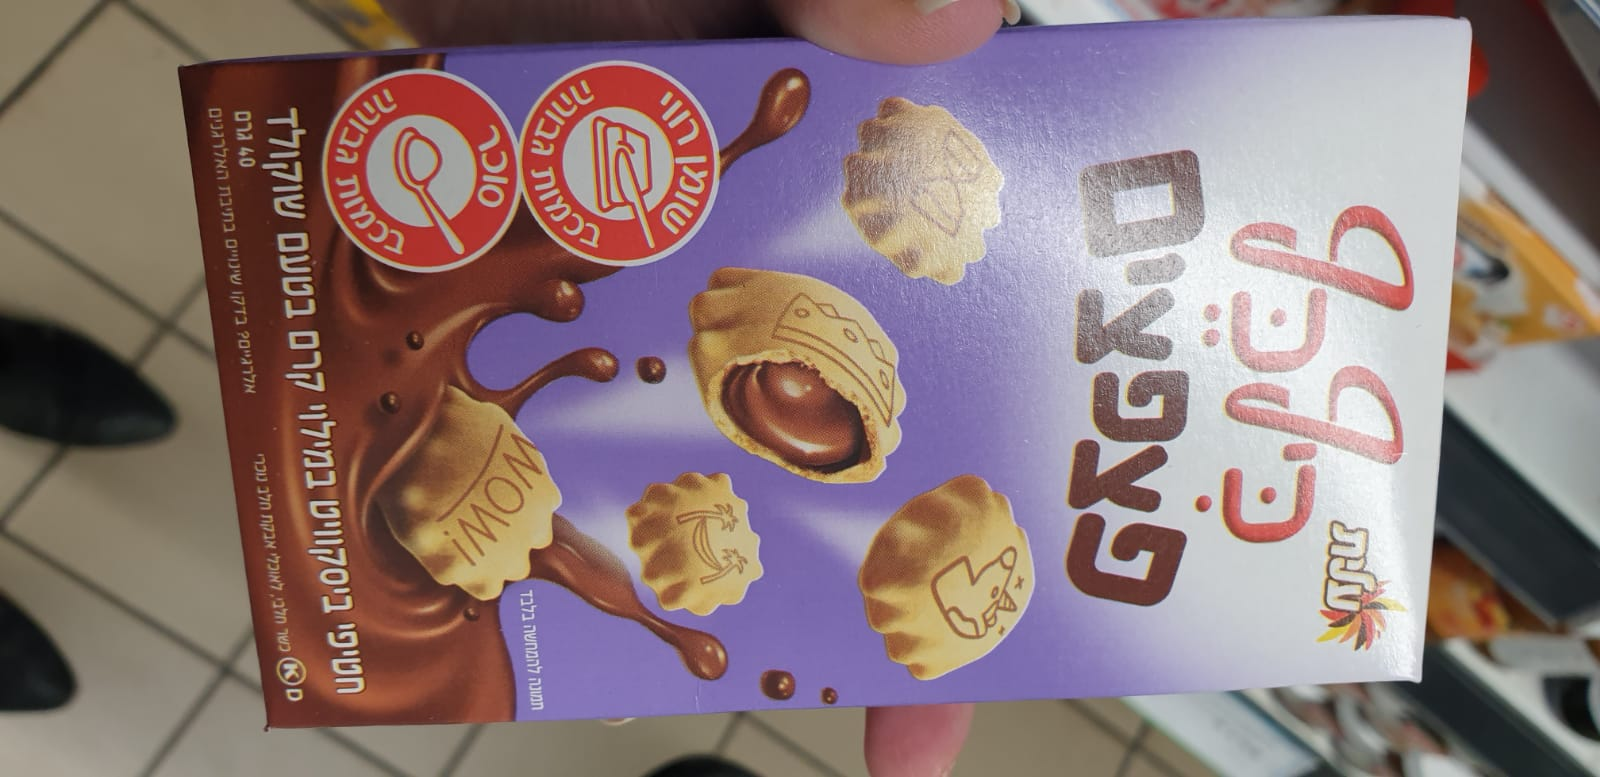fat: (517, 60, 718, 268)
sugar: (316, 67, 522, 275)
